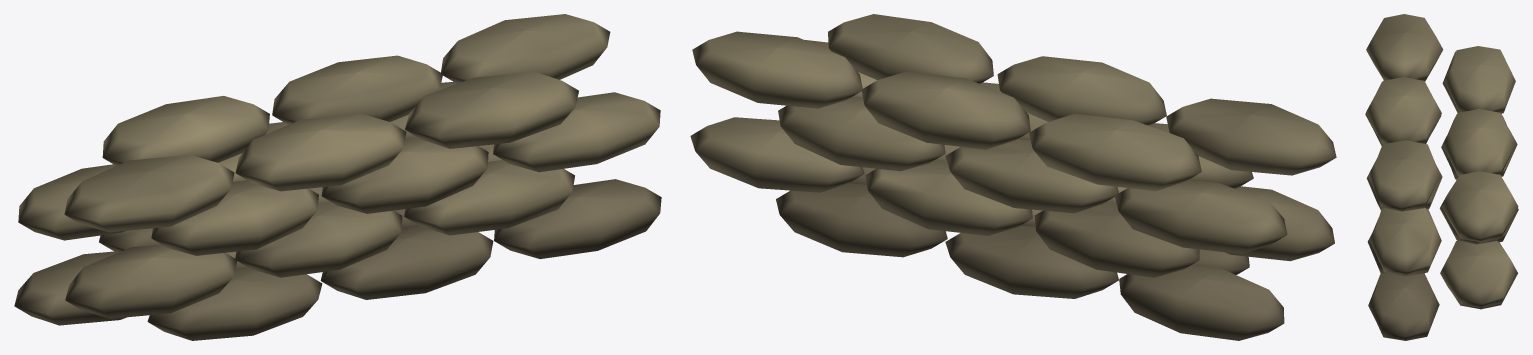
File: m01_prop_sandbag_run_lod0.glb
The picture shows the model from 3 angles, left to right: view 1: azimuth 30°, elevation 25°; view 2: azimuth 150°, elevation 25°; view 3: azimuth 270°, elevation 25°; orthographic projection. The views are drawn at different scales.
Visible parts, largest first — view 1: sandbag_run; view 2: sandbag_run; view 3: sandbag_run.
Part boxes in pixels (box(x1,y1,x2,y2)): sandbag_run: box(14, 14, 661, 340); sandbag_run: box(690, 14, 1336, 340); sandbag_run: box(1365, 14, 1518, 340).
Bounding box in the file's own units: 2.1 × 0.585 × 0.6193.
